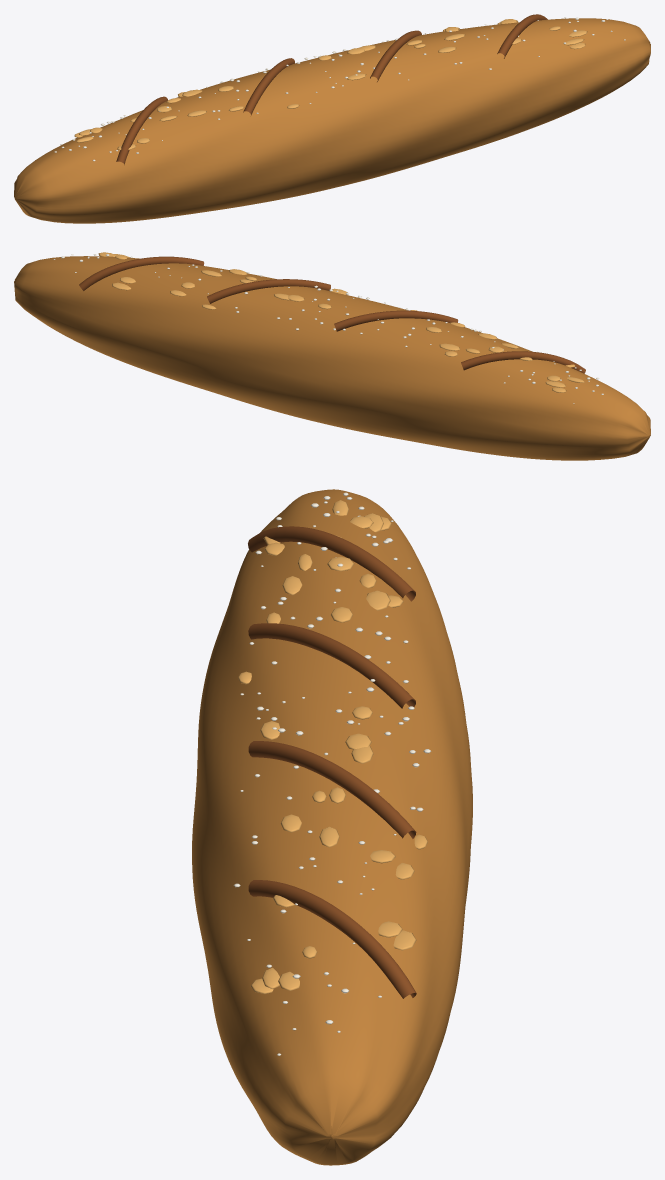
File: Baguette.glb
3 views of the same model, one above another, from view 1: azimuth 30°, elevation 25°; view 2: azimuth 150°, elevation 25°; view 3: azimuth 270°, elevation 25° (orthographic). The views are drawn at different scales.
Visible parts, largest first — view 1: Baguette_Francesa, Corte_Diagonal_1, Corte_Diagonal_2, Corte_Diagonal_3, Corte_Diagonal_4; view 2: Baguette_Francesa, Corte_Diagonal_4, Corte_Diagonal_2, Corte_Diagonal_3, Corte_Diagonal_1; view 3: Baguette_Francesa, Corte_Diagonal_4, Corte_Diagonal_3, Corte_Diagonal_2, Corte_Diagonal_1.
Boxes of the visible parts, x1=… form: Baguette_Francesa: x1=14, y1=18, x2=650, y2=223; Corte_Diagonal_1: x1=116, y1=96, x2=167, y2=164; Corte_Diagonal_2: x1=243, y1=58, x2=294, y2=115; Corte_Diagonal_3: x1=370, y1=30, x2=421, y2=81; Corte_Diagonal_4: x1=497, y1=14, x2=547, y2=58; Baguette_Francesa: x1=14, y1=256, x2=650, y2=460; Corte_Diagonal_4: x1=79, y1=256, x2=204, y2=290; Corte_Diagonal_2: x1=334, y1=310, x2=458, y2=331; Corte_Diagonal_3: x1=207, y1=279, x2=330, y2=303; Corte_Diagonal_1: x1=461, y1=351, x2=585, y2=373; Baguette_Francesa: x1=192, y1=489, x2=472, y2=1165; Corte_Diagonal_4: x1=248, y1=880, x2=416, y2=998; Corte_Diagonal_3: x1=248, y1=741, x2=416, y2=838; Corte_Diagonal_2: x1=248, y1=623, x2=415, y2=708; Corte_Diagonal_1: x1=248, y1=526, x2=415, y2=601.
Size of the model in its own units: 2 by 0.3635 by 0.3839.
